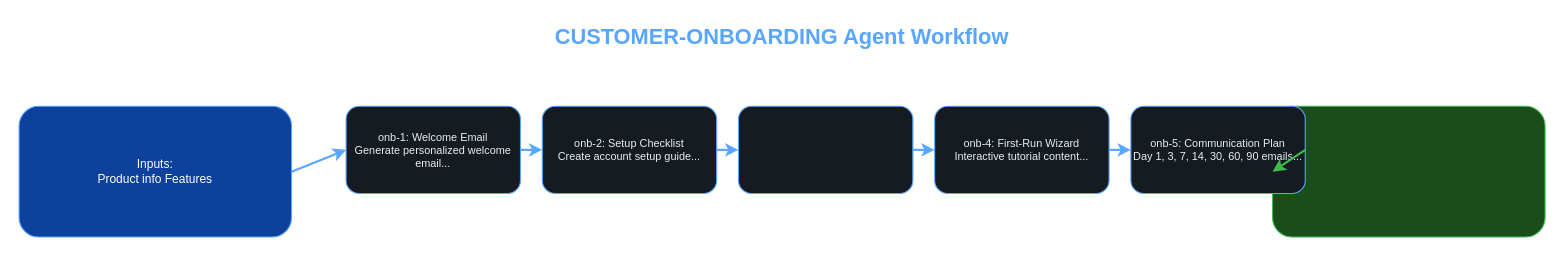
This 1564x256 diagram has some shape labels left out. Here are the shapes that lost their labels. From the top down, the centre of each, then its label:
At (825,149): "onb-3: Installation Guide Detailed installation instructions...".
At (1408,171): "Outputs: onboarding/ folder with 11 files".
